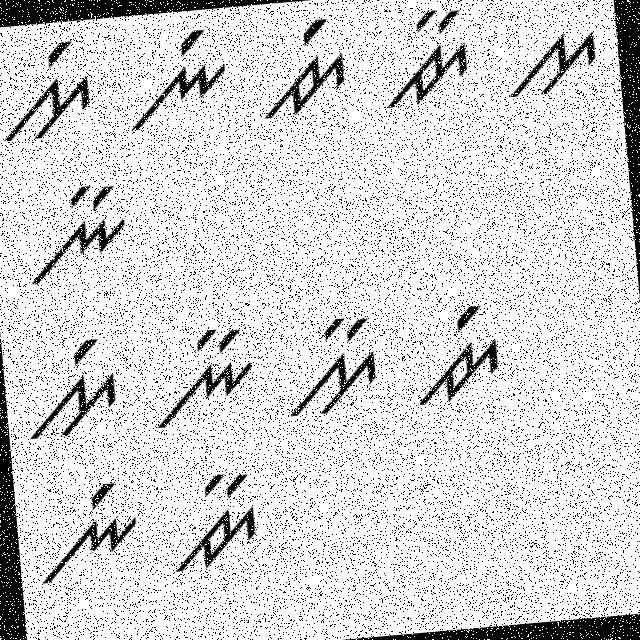jan: (160, 462, 266, 583), (380, 2, 480, 120)
jang: (407, 291, 512, 413), (248, 13, 356, 122)
nyan: (13, 175, 140, 292), (144, 314, 266, 432)
nyang: (29, 468, 148, 592), (124, 20, 240, 136)
sa: (492, 20, 602, 106)
san: (281, 300, 385, 418)
sang: (16, 331, 126, 447), (0, 37, 100, 150)
